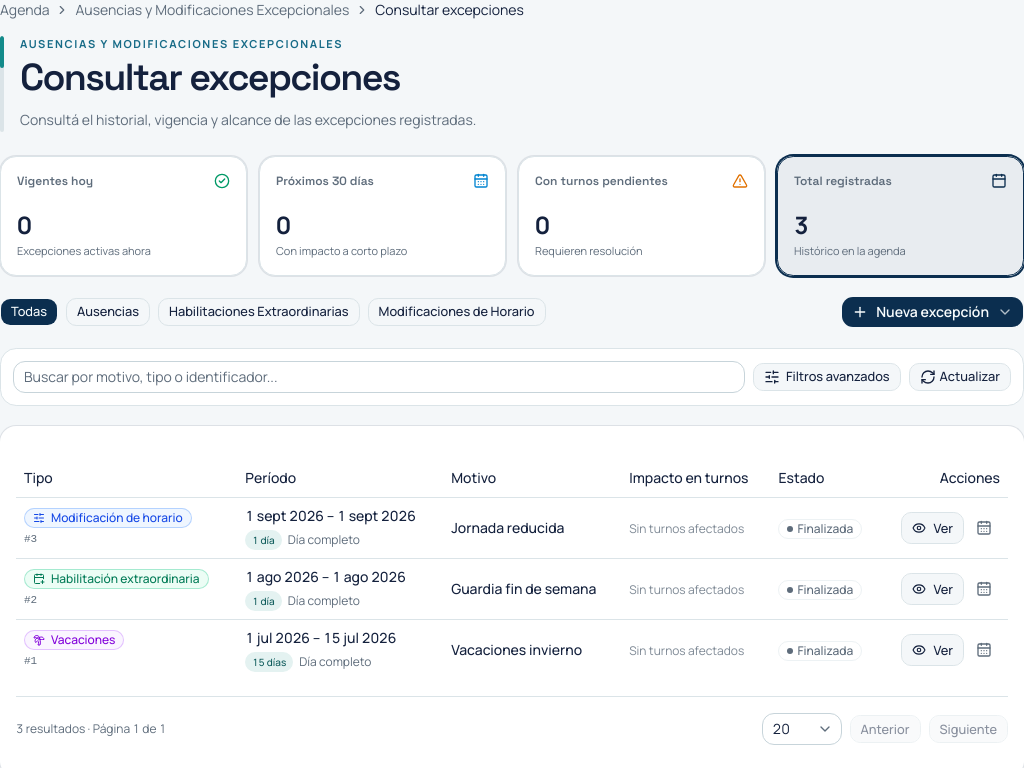
Test: AbsenceManagementPage › permite filtrar excepciones por categoría en ExceptionsPanel
The image size is (1024, 768).
Expected: the text "Guardia fin de semana" is shown, top-left (451, 579), bottom-right (613, 599)
Expected: the text "Jornada reducida" is shown, top-left (451, 518), bottom-right (564, 537)
// Filter by Habilitaciones Extraordinarias
Click the button "Habilitaciones Extraordinarias" at coordinates (259, 312), box top-left (158, 298), bottom-right (360, 326)
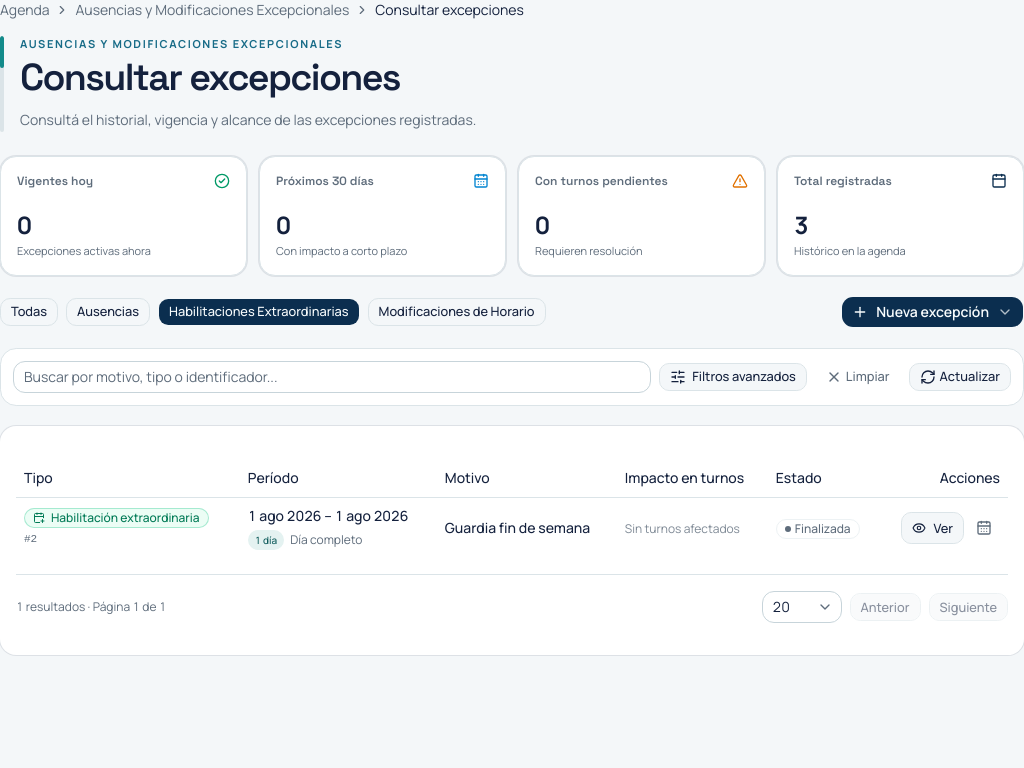
Expected: the text "Guardia fin de semana" is shown, top-left (445, 518), bottom-right (609, 538)
Result: the text "Vacaciones invierno" is not shown
Result: the text "Jornada reducida" is not shown
// Filter by Modificaciones de Horario
Click the button "Modificaciones de Horario" at coordinates (457, 312), box top-left (368, 298), bottom-right (546, 326)
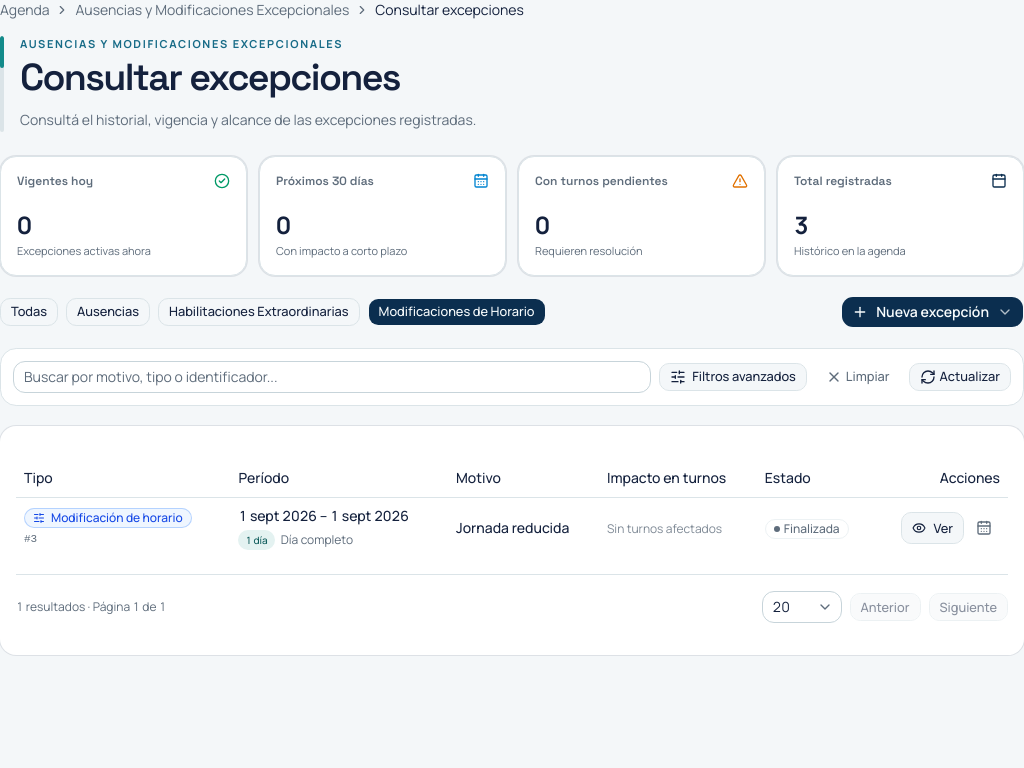
Result: the text "Jornada reducida" is shown at top-left (456, 518), bottom-right (569, 537)
Result: the text "Guardia fin de semana" is not shown
// Filter by Ausencias
Click the button "Ausencias" at coordinates (108, 312), box top-left (66, 298), bottom-right (150, 326)
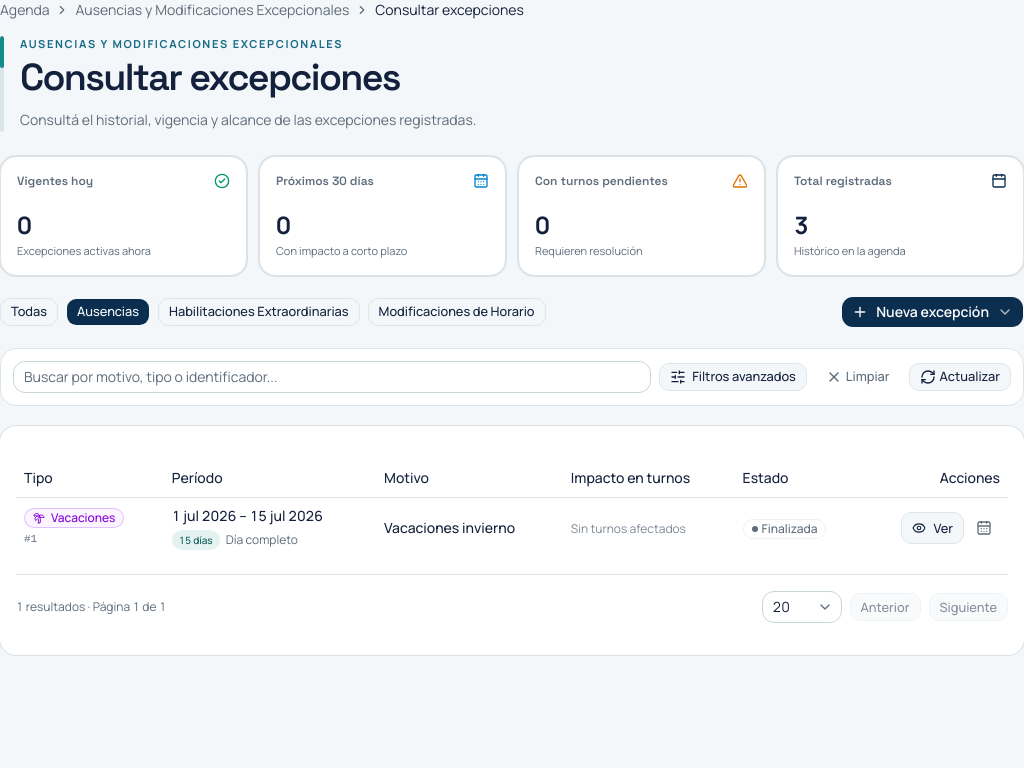
Result: the text "Vacaciones invierno" is shown at top-left (384, 518), bottom-right (515, 537)
Result: the text "Jornada reducida" is not shown
// Filter by Todas
Click the button "Todas" at coordinates (29, 312), box top-left (0, 298), bottom-right (58, 326)
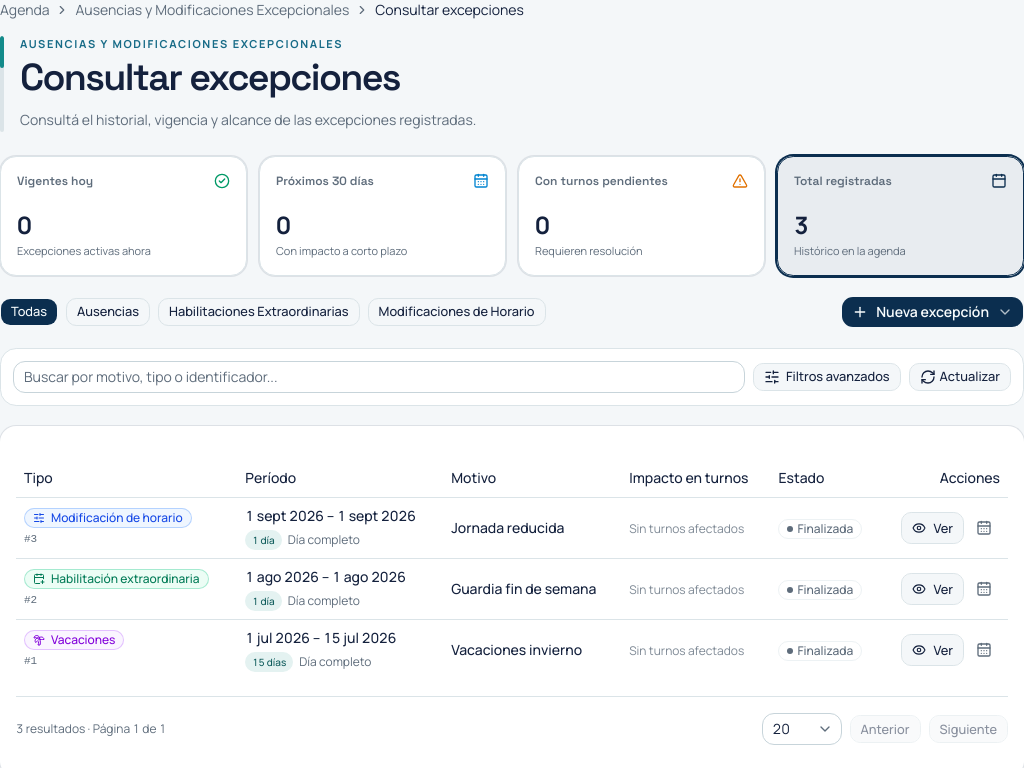
Result: the text "Vacaciones invierno" is shown at top-left (451, 640), bottom-right (582, 659)
Result: the text "Guardia fin de semana" is shown at top-left (451, 579), bottom-right (613, 599)
Result: the text "Jornada reducida" is shown at top-left (451, 518), bottom-right (564, 537)
